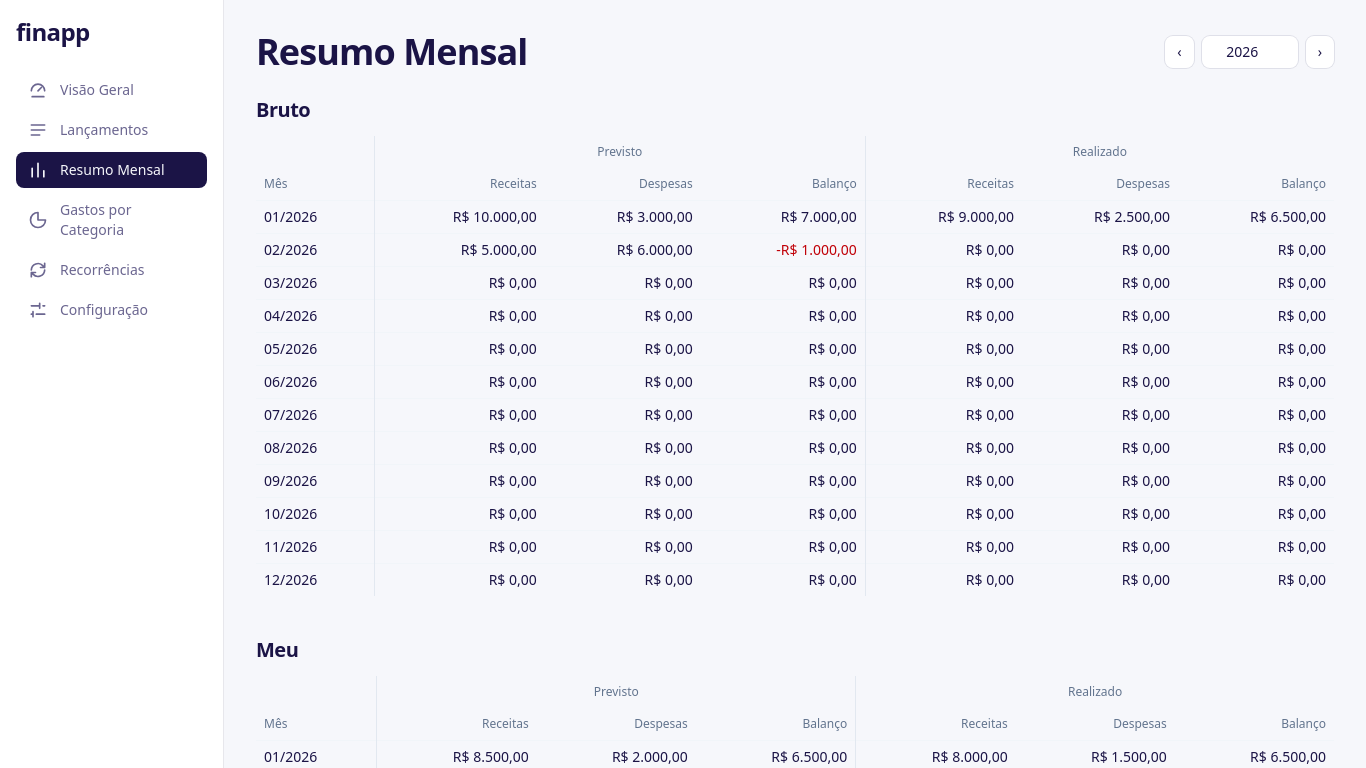
Test: Year input › goes back to the shown year when left with an incomplete one
This screenshot has width=1366, height=768.
Expected: the heading "Resumo Mensal" is shown, x1=256 y1=32 x2=527 y2=72
Replace the text in the number field named "Ano" with "202": [1250, 52] box x1=1202 y1=36 x2=1298 y2=68
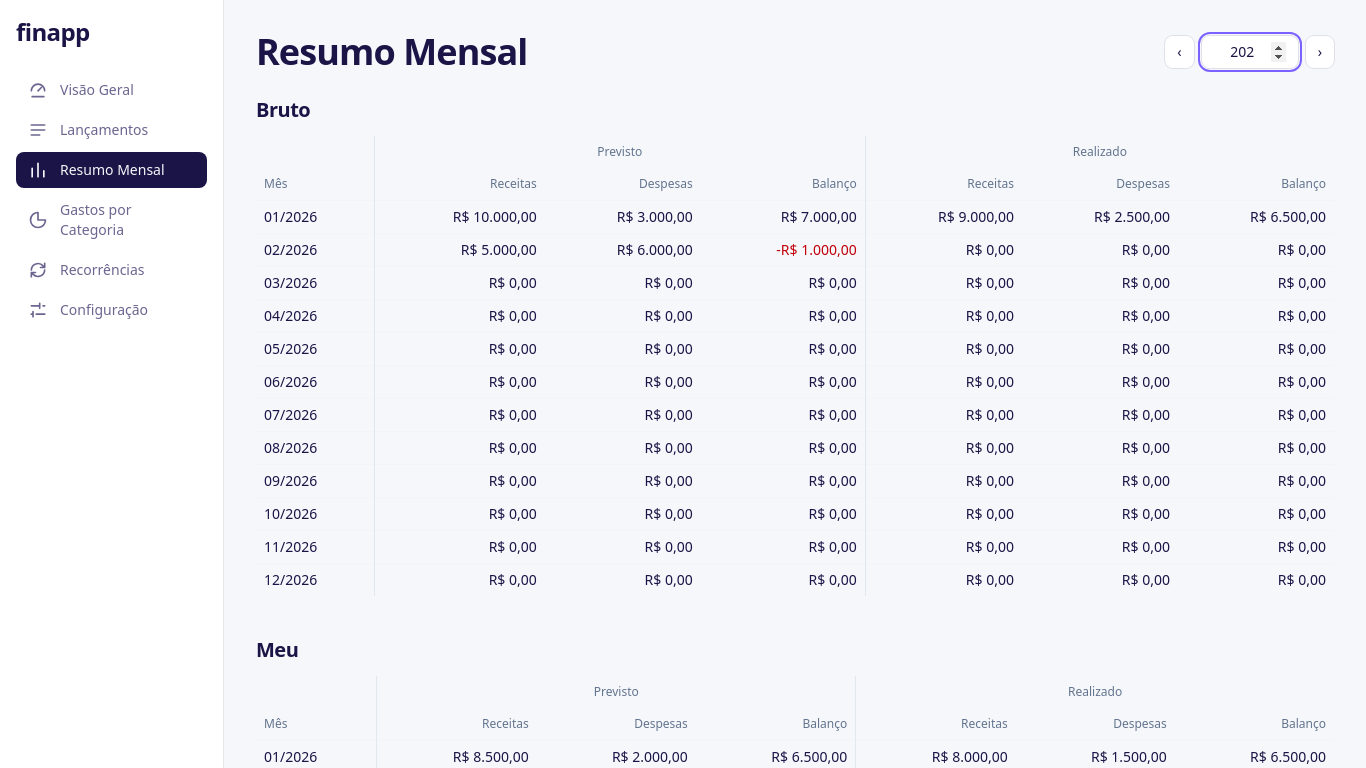
Press Tab
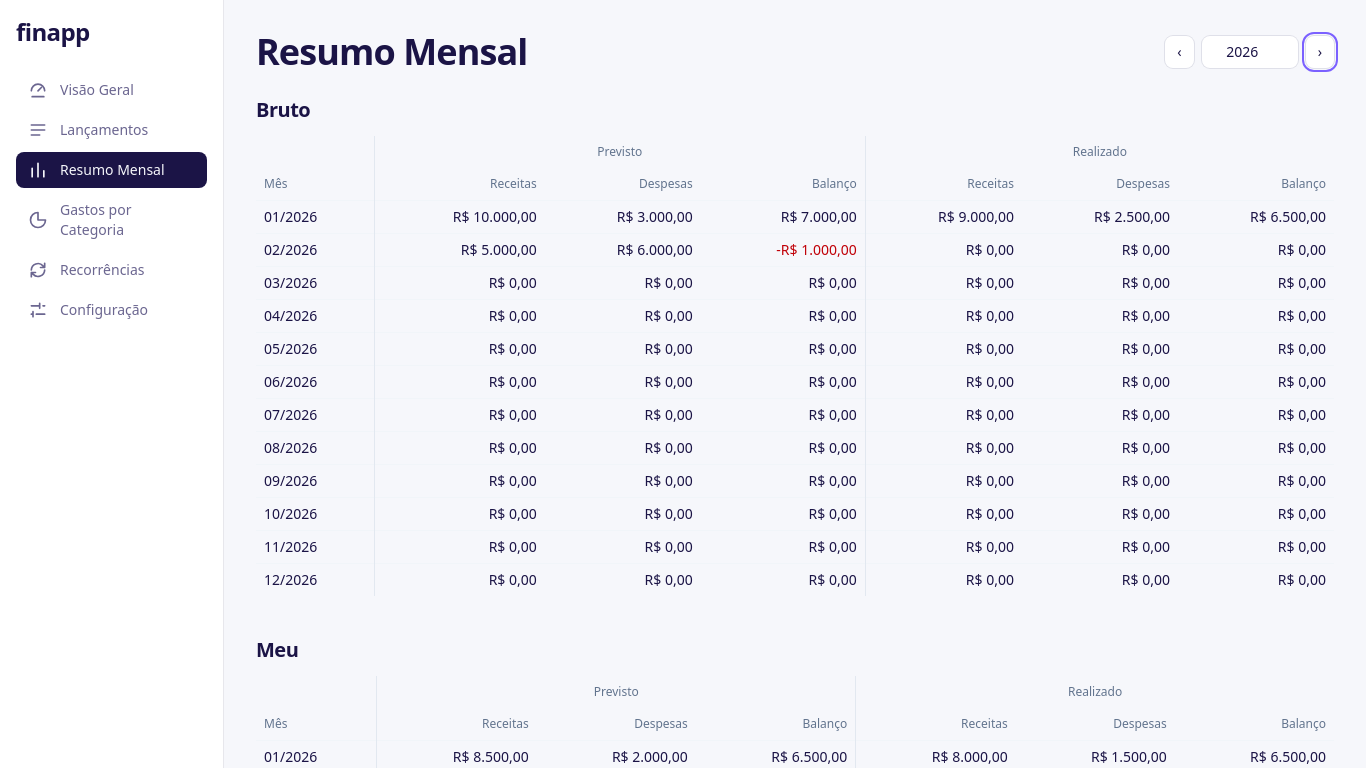
Result: the number field named "Ano" holds "2026" at x1=1202 y1=36 x2=1298 y2=68
